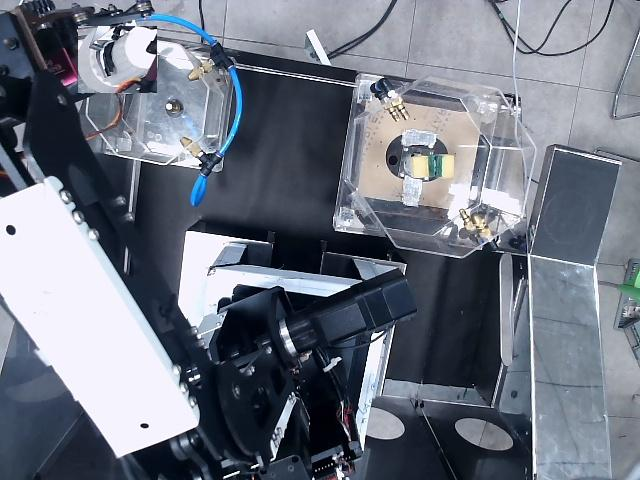cup: (78, 26, 157, 93)
